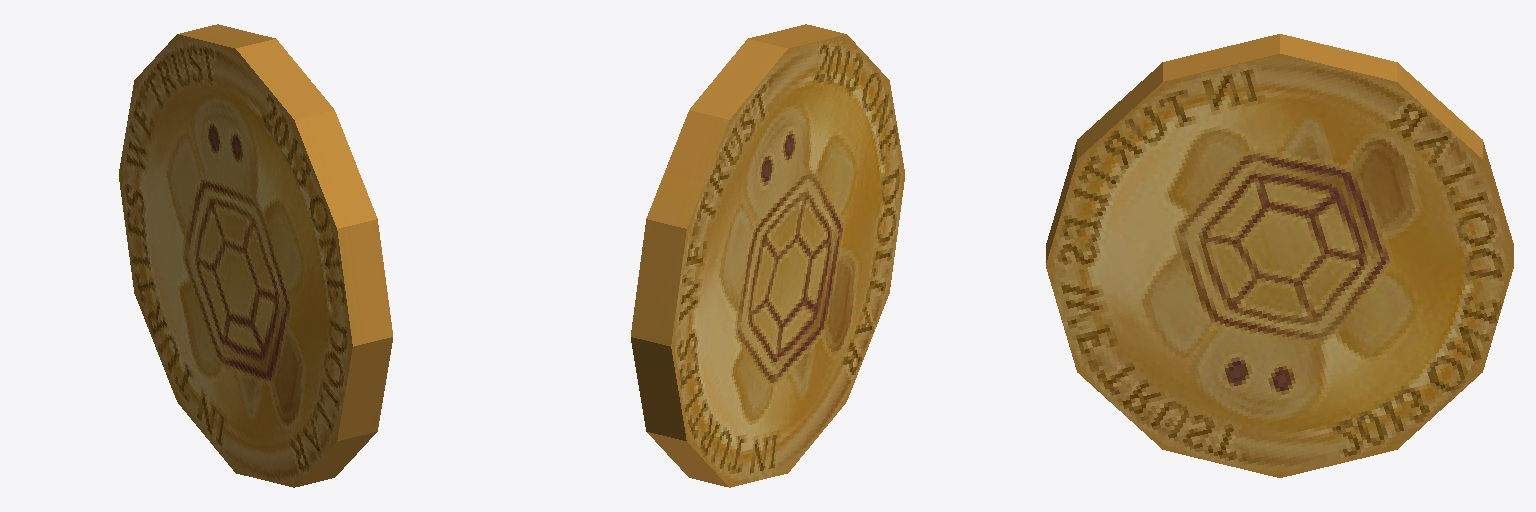
3 views of the same model, side by side, from view 1: azimuth 30°, elevation 25°; view 2: azimuth 150°, elevation 25°; view 3: azimuth 270°, elevation 25° (orthographic).
Visible parts, largest first — view 1: Cylinder; view 2: Cylinder; view 3: Cylinder.
Boxes of the visible parts, box(x1,y1,x2,y2) form: Cylinder: box(119, 24, 392, 487); Cylinder: box(631, 24, 904, 487); Cylinder: box(1046, 34, 1513, 477).
Bounding box in the file's own units: 0.2 × 2 × 2.
Materials: 1 (1 with a texture image).